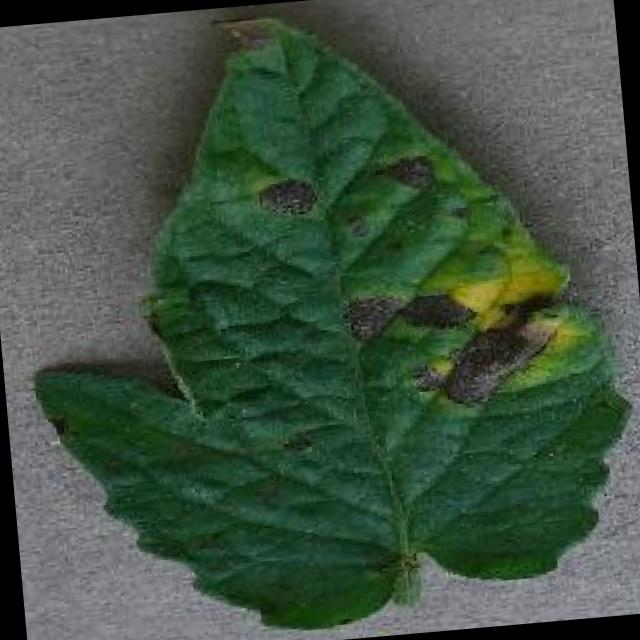Tomato_Early_Blight: (13, 0, 636, 562)
